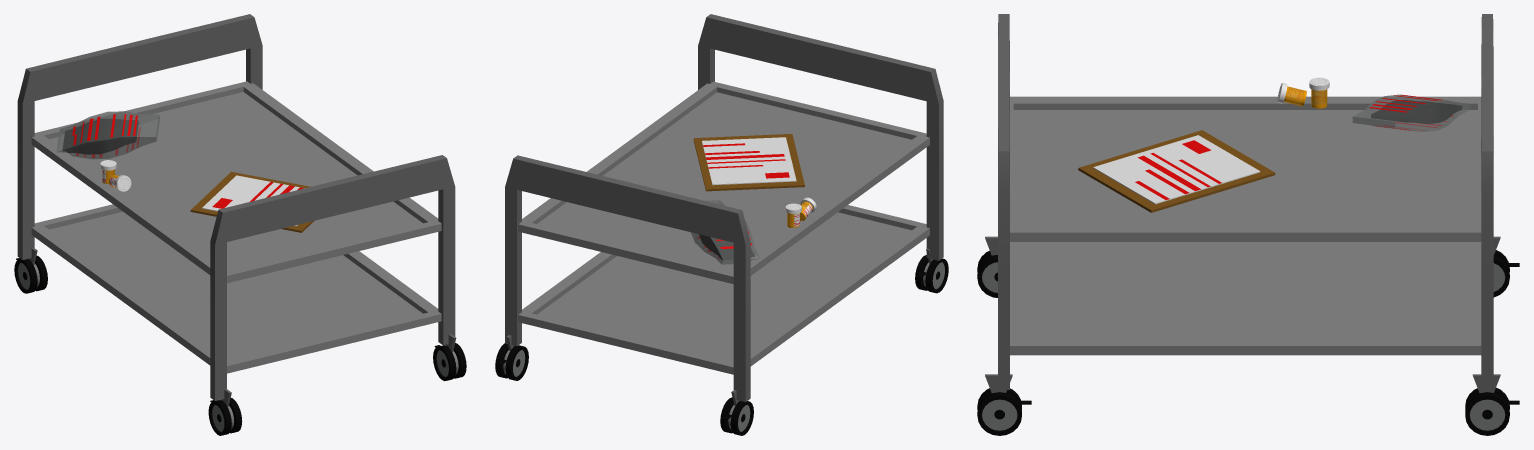
Rendered from deco_3_repar.fbx.
The picture shows the model from 3 angles, left to right: view 1: azimuth 30°, elevation 25°; view 2: azimuth 150°, elevation 25°; view 3: azimuth 270°, elevation 25°; orthographic projection. The views are drawn at different scales.
Visible parts, largest first — view 1: pCube116, pCube126, pCube117, pCube118, pCube127, pCube135, pCube132, pCylinder9, pCylinder17, pCylinder18; view 2: pCube116, pCube126, pCube118, pCube117, pCube135, pCube127, pCylinder19, pCylinder18, pCylinder17, pCube132; view 3: pCube116, pCube126, pCube135, pCube118, pCube117, pCube127, pCylinder19, pCylinder9, pCube132, pCylinder17, pCylinder18, pCylinder23.
Boxes of the visible parts, x1,y1,x2,y2 form: pCube116: (31, 81, 441, 283); pCube126: (31, 204, 441, 373); pCube117: (210, 155, 455, 400); pCube118: (17, 14, 262, 259); pCube127: (56, 111, 159, 159); pCube135: (190, 171, 313, 232); pCube132: (62, 119, 138, 154); pCylinder9: (433, 343, 466, 381); pCylinder17: (208, 398, 242, 435); pCylinder18: (14, 255, 47, 293); pCube116: (518, 81, 929, 283); pCube126: (518, 205, 929, 374); pCube118: (505, 155, 750, 402); pCube117: (698, 14, 943, 260); pCube135: (693, 134, 804, 191); pCube127: (691, 200, 759, 264); pCylinder19: (495, 343, 528, 380); pCylinder18: (720, 397, 753, 435); pCylinder17: (915, 255, 948, 293); pCube132: (699, 234, 754, 259); pCube116: (1010, 96, 1481, 241); pCube126: (1010, 242, 1481, 355); pCube135: (1078, 130, 1275, 212); pCube118: (1481, 14, 1493, 389); pCube117: (998, 14, 1009, 389); pCube127: (1352, 94, 1469, 132); pCylinder19: (1465, 387, 1509, 435); pCylinder9: (977, 388, 1021, 435); pCube132: (1371, 100, 1461, 123); pCylinder17: (977, 250, 997, 297); pCylinder18: (1493, 250, 1509, 297); pCylinder23: (1309, 77, 1329, 108).
Size of the model in its own units: 0.3053 by 0.2651 by 0.469.
